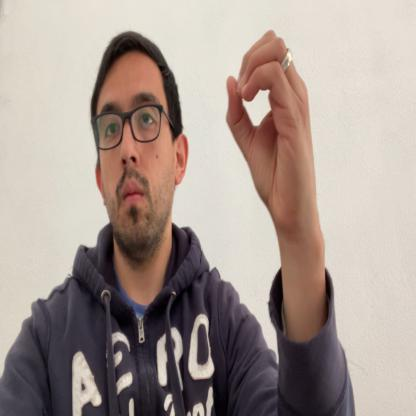O: (226, 28, 318, 233)
